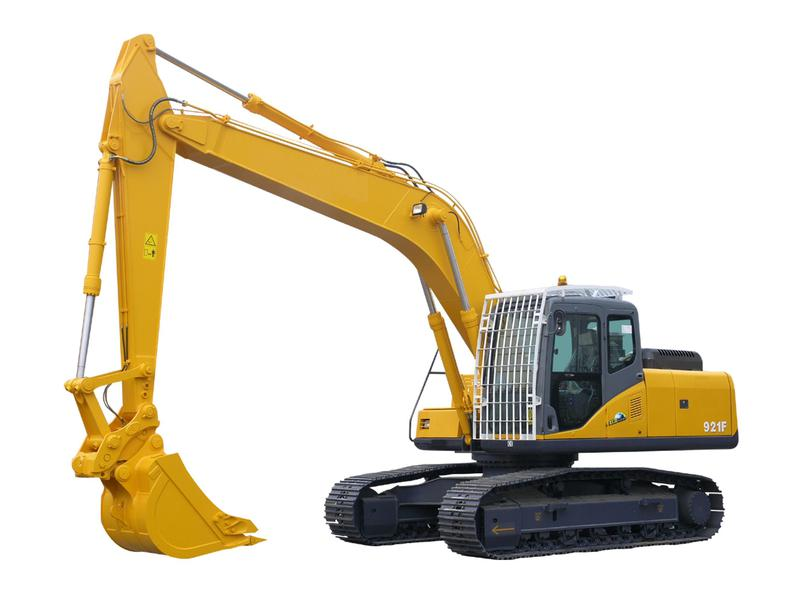shovel: (60, 25, 746, 563)
